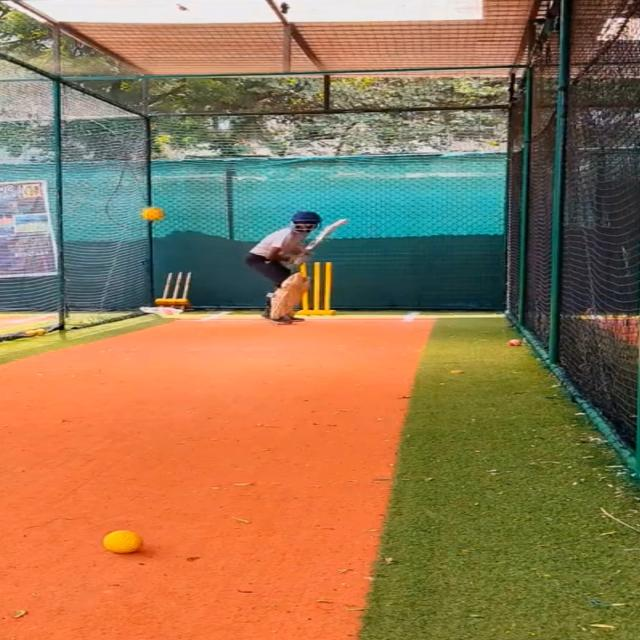ball: (136, 204, 168, 222)
stump: (300, 259, 338, 315)
